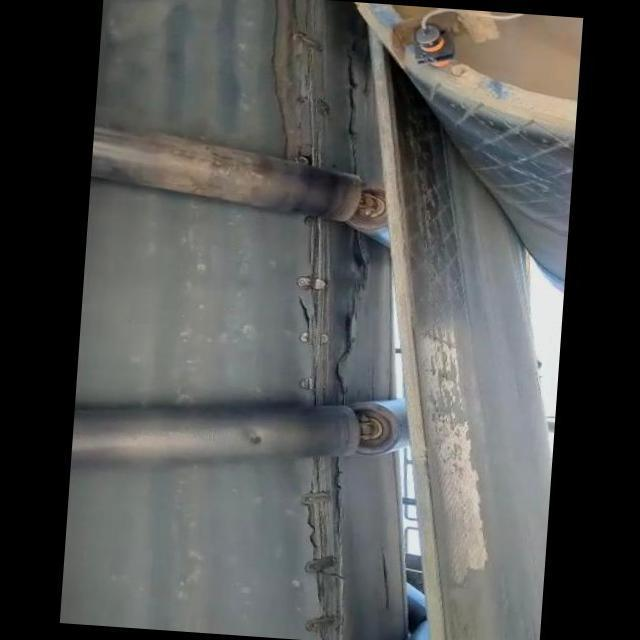Tear: (256, 0, 370, 180), (296, 206, 372, 404), (292, 458, 356, 640)
